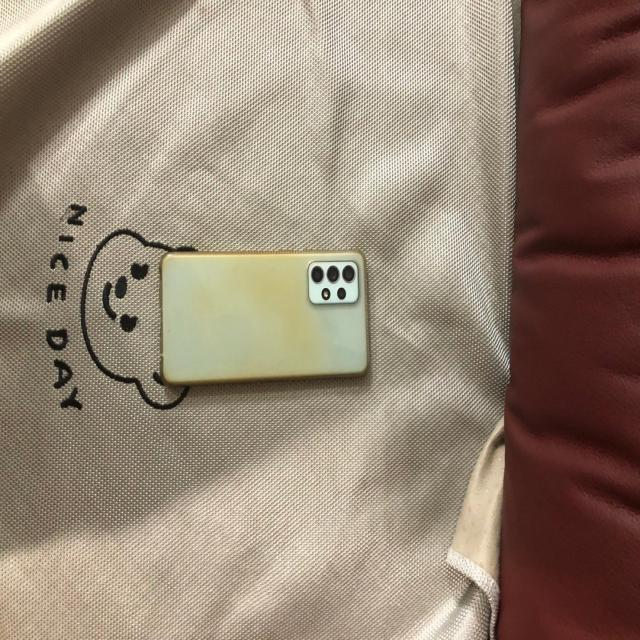Smartphone: (154, 236, 385, 401)
